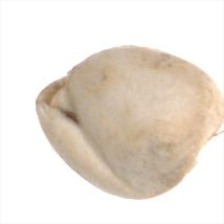L3: (33, 66, 84, 128)
L4: (33, 45, 222, 201)
